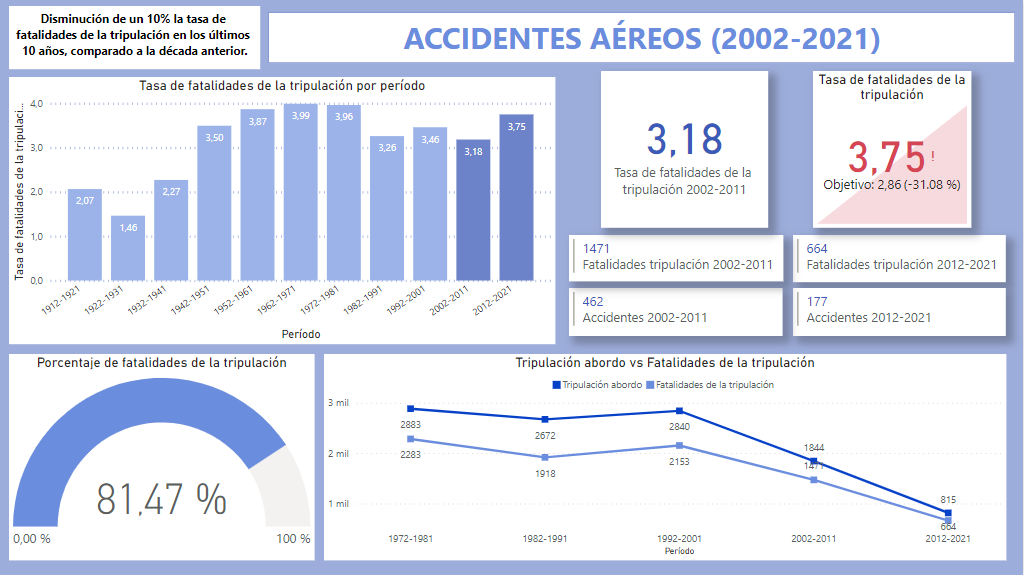

The dashboard page shown, as its layout file describes it:
{"tool":"powerbi","page":{"name":"KPI 2","canvas":[1280,720],"ordinal":3},"visuals":[{"type":"textbox","box":[335.7,15.4,934.1,64.1],"z":0},{"type":"multiRowCard","fields":{"Values":["Sum(Accidentes_tratado.crew_fatalities)"]},"box":[992.5,293.8,266.2,58.8],"z":1000},{"type":"multiRowCard","fields":{"Values":["Accidentes_tratado.Accidentes"]},"box":[992.5,360,266.2,60],"z":2000},{"type":"multiRowCard","fields":{"Values":["Accidentes_tratado.Accidentes"]},"box":[712.4,360,266.5,60.2],"z":3000},{"type":"multiRowCard","fields":{"Values":["Sum(Accidentes_tratado.crew_fatalities)"]},"box":[712.4,293.4,267.8,57.7],"z":4000},{"type":"columnChart","title":"Tasa de fatalidades de la tripulación por período","fields":{"Y":["Accidentes_tratado.Crew_fatality_rate"],"Category":["Accidentes_tratado.Período"]},"box":[12.8,96.1,682.9,334.4],"z":5000},{"type":"card","title":"2002-2011","fields":{"Values":["Accidentes_tratado.Crew_fatality_rate"]},"box":[752.1,88.4,208.8,196],"z":6000},{"type":"textbox","box":[12.8,7.7,313.9,79.4],"z":7000},{"type":"kpi","title":"Tasa de fatalidades de la tripulación","fields":{"Indicator":["Accidentes_tratado.Crew_fatality_rate"],"TrendLine":["Accidentes_tratado.Período"],"Goal":["Accidentes_tratado.KPI1"]},"box":[1017.5,88.8,197.5,196.2],"z":8000},{"type":"lineChart","title":"Tripulación abordo vs Fatalidades de la tripulación","fields":{"Y":["Sum(Accidentes_tratado.crew_aboard)","Sum(Accidentes_tratado.crew_fatalities)"],"Category":["Accidentes_tratado.Período"]},"box":[406.2,442.5,852.5,257.5],"z":9000},{"type":"gauge","title":"Porcentaje de fatalidades de la tripulación","fields":{"MaxValue":["Accidentes_tratado.Objetivo"],"Y":["Accidentes_tratado.Porcentaje_fatalidades_tripulacion"]},"box":[12.8,442,381.8,257.5],"z":10000}]}

Visuals, with their boxes in screenshot pixels (x1, y1, x2, y2), scaled from the page's 1280x720 canvas onto the 1024x575 screenshot:
textbox: bbox(269, 12, 1016, 63)
multiRowCard - Sum(Accidentes_tratado.crew_fatalities): bbox(794, 235, 1007, 282)
multiRowCard - Accidentes_tratado.Accidentes: bbox(794, 288, 1007, 335)
multiRowCard - Accidentes_tratado.Accidentes: bbox(570, 288, 783, 336)
multiRowCard - Sum(Accidentes_tratado.crew_fatalities): bbox(570, 234, 784, 280)
"Tasa de fatalidades de la tripulación por período" columnChart: bbox(10, 77, 557, 344)
"2002-2011" card: bbox(602, 71, 769, 227)
textbox: bbox(10, 6, 261, 70)
"Tasa de fatalidades de la tripulación" kpi: bbox(814, 71, 972, 228)
"Tripulación abordo vs Fatalidades de la tripulación" lineChart: bbox(325, 353, 1007, 559)
"Porcentaje de fatalidades de la tripulación" gauge: bbox(10, 353, 316, 559)
